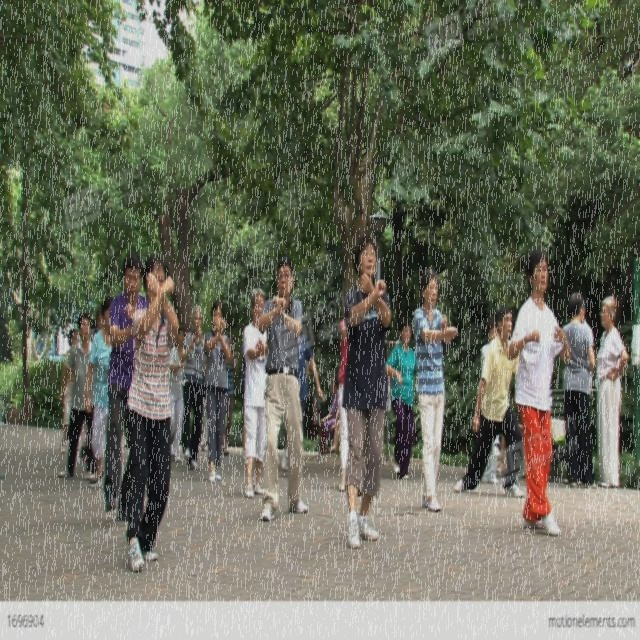pessoa: (505, 244, 573, 539), (121, 250, 180, 576), (340, 225, 392, 552), (454, 303, 526, 499), (257, 254, 309, 522), (102, 251, 149, 514), (411, 266, 458, 516), (556, 289, 598, 493), (594, 292, 630, 490), (280, 321, 326, 474), (560, 294, 596, 486), (57, 312, 97, 482), (83, 294, 114, 489), (242, 285, 270, 500), (384, 316, 418, 480), (204, 299, 232, 483), (179, 304, 207, 472), (480, 312, 501, 486), (168, 324, 188, 464), (338, 306, 353, 492), (60, 327, 80, 454), (220, 333, 238, 457), (320, 375, 340, 455), (199, 330, 212, 453), (328, 404, 342, 456), (88, 307, 104, 340), (79, 418, 89, 464), (280, 437, 290, 473)
